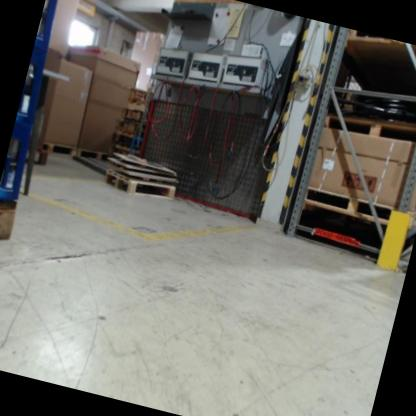pallet: (299, 181, 416, 235), (322, 100, 416, 154), (101, 167, 178, 207), (37, 136, 78, 164), (74, 144, 110, 169)
